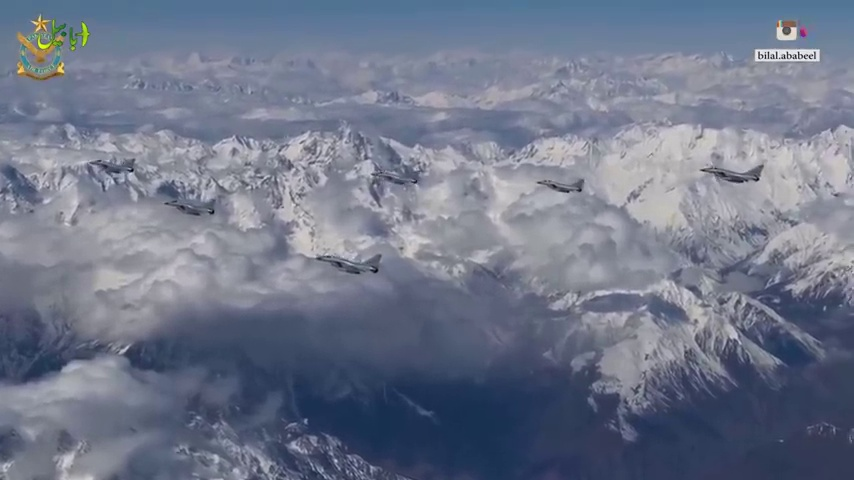military drone: (314, 252, 382, 274), (699, 164, 764, 183), (164, 199, 216, 216), (88, 157, 136, 174), (536, 177, 584, 193), (371, 171, 418, 185)
